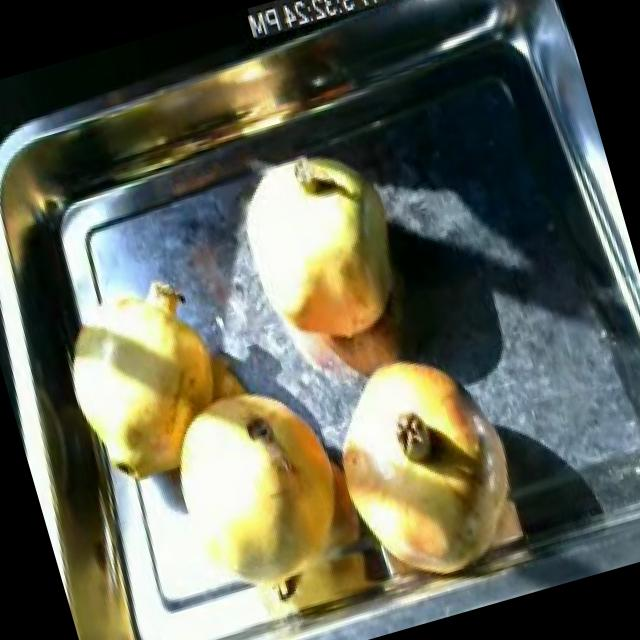fruit: (136, 353, 379, 640), (306, 322, 542, 602), (218, 126, 426, 378), (46, 264, 255, 506)
